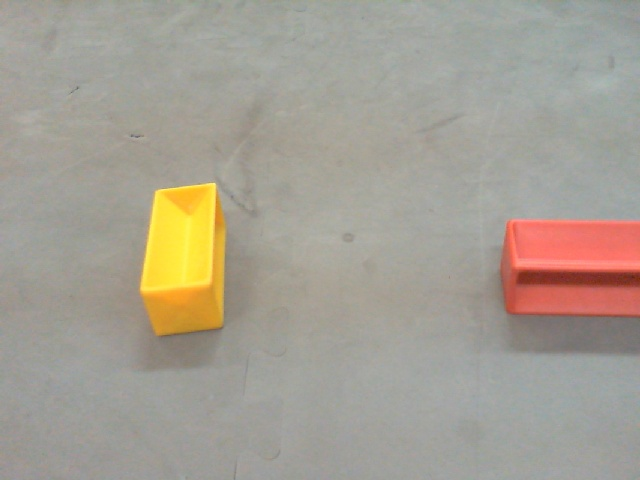RedSample: (499, 216, 640, 318)
YellowSample: (138, 179, 226, 337)
